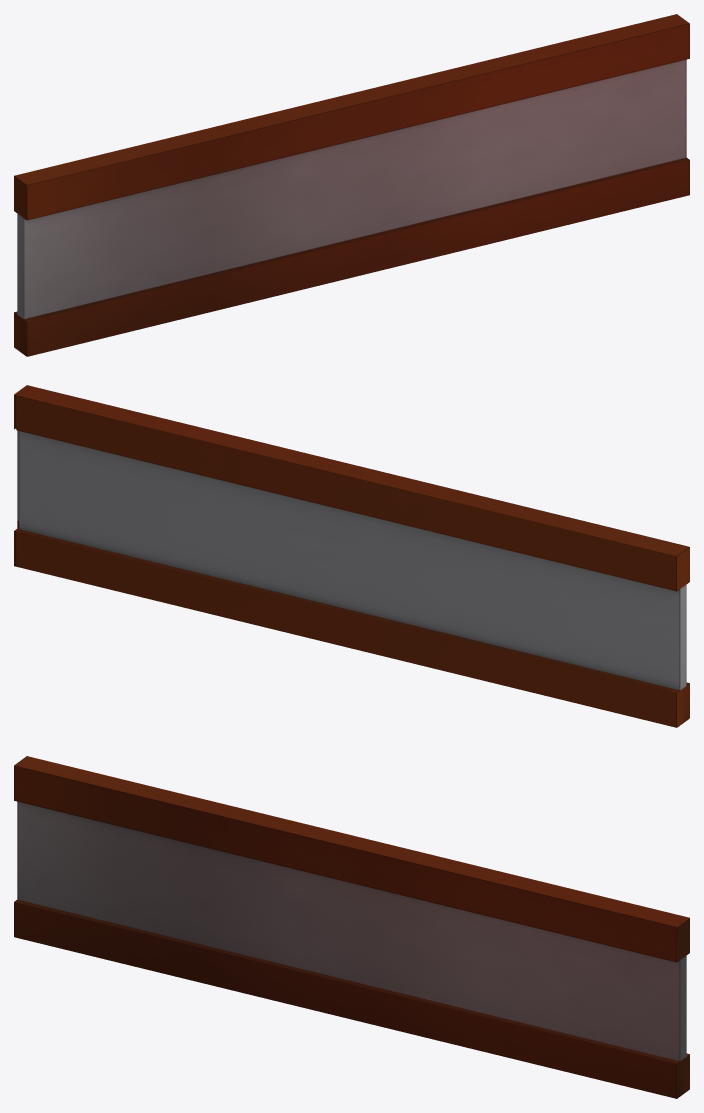
Rendered from fence.FBX.
3 renders of one model, top to bottom at view 1: azimuth 30°, elevation 25°; view 2: azimuth 150°, elevation 25°; view 3: azimuth 330°, elevation 25°, orthographic.
Parts seen in each view (by area): view 1: fence 18; view 2: fence 18; view 3: fence 18.
Part boxes in pixels (x1=…): fence 18: x1=14, y1=14, x2=689, y2=356; fence 18: x1=14, y1=385, x2=689, y2=727; fence 18: x1=14, y1=756, x2=689, y2=1098.
Size of the model in its own units: 142 by 35.08 by 4.81.
1 material, 1 textured.
